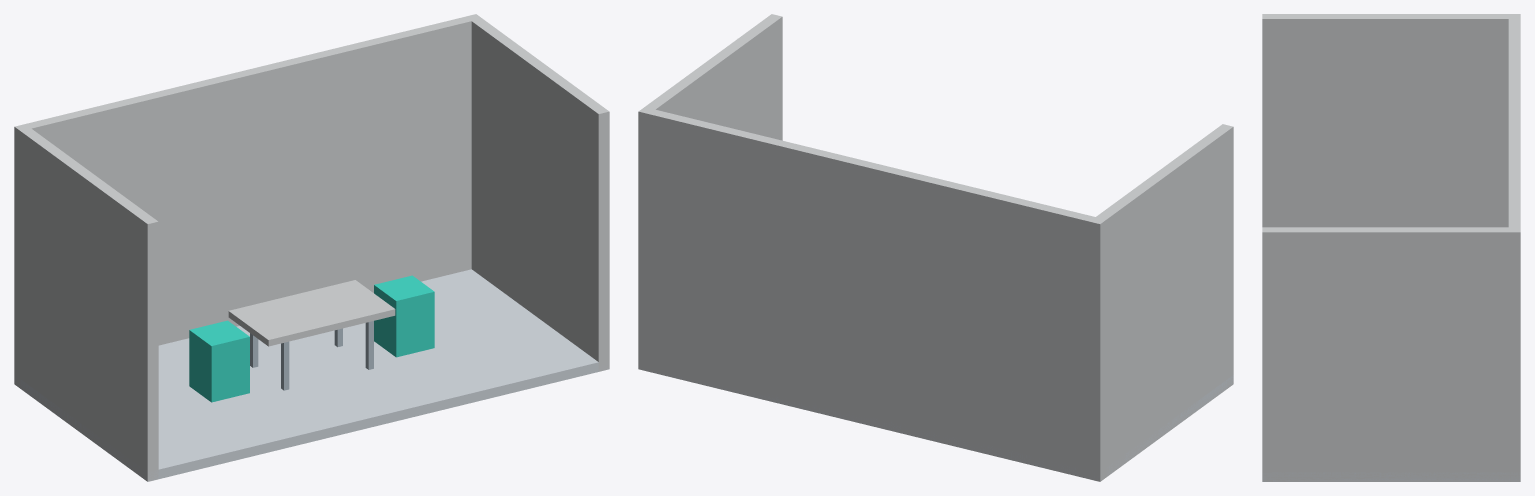
The picture shows the model from 3 angles, left to right: view 1: azimuth 30°, elevation 25°; view 2: azimuth 150°, elevation 25°; view 3: azimuth 270°, elevation 25°; orthographic projection. The views are drawn at different scales.
Visible parts, largest first — view 1: Exhibition Booth Concept; view 2: Exhibition Booth Concept; view 3: Exhibition Booth Concept.
Part boxes in pixels (bbox=[...]): Exhibition Booth Concept: bbox=[14, 14, 609, 481]; Exhibition Booth Concept: bbox=[638, 14, 1233, 481]; Exhibition Booth Concept: bbox=[1262, 14, 1520, 481].
Bounding box in the file's own units: 6 × 3.2 × 3.
